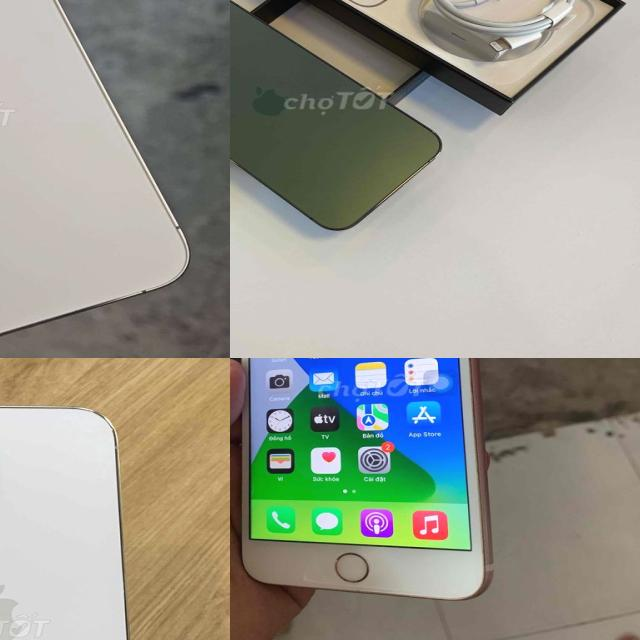gen_12_13: (0, 0, 196, 352), (230, 0, 446, 235)
gen_14: (0, 399, 146, 640)
gen_6: (230, 358, 502, 601)
